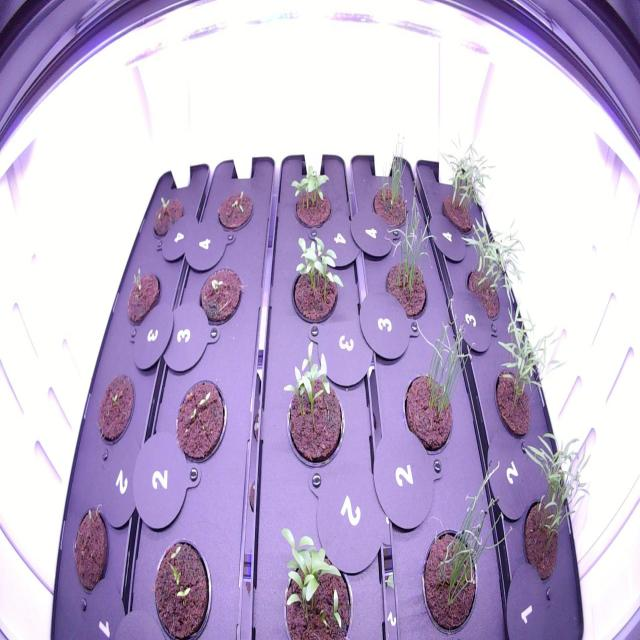germination: (267, 516, 361, 638), (280, 334, 350, 474), (148, 527, 216, 637), (284, 230, 346, 334), (170, 373, 229, 468), (284, 159, 336, 235), (195, 262, 247, 332), (121, 262, 164, 329), (210, 182, 256, 240), (147, 187, 186, 246)
pod: (68, 499, 114, 603), (93, 367, 138, 450)
